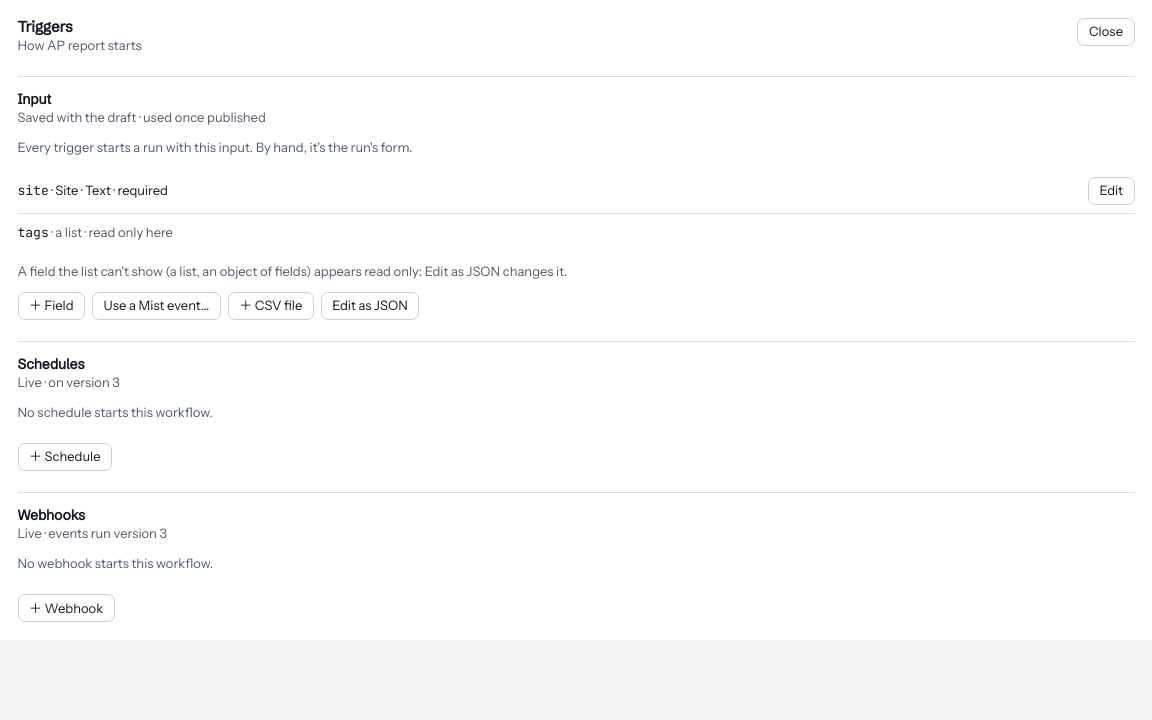
the input as form fields › holds a name until it can be one, and applies it when focus leaves it
Check: the heading "Triggers" is shown, box [18, 16, 72, 36]
Click the button with aria-label "Edit site" at [1111, 190], box [1088, 176, 1134, 204]
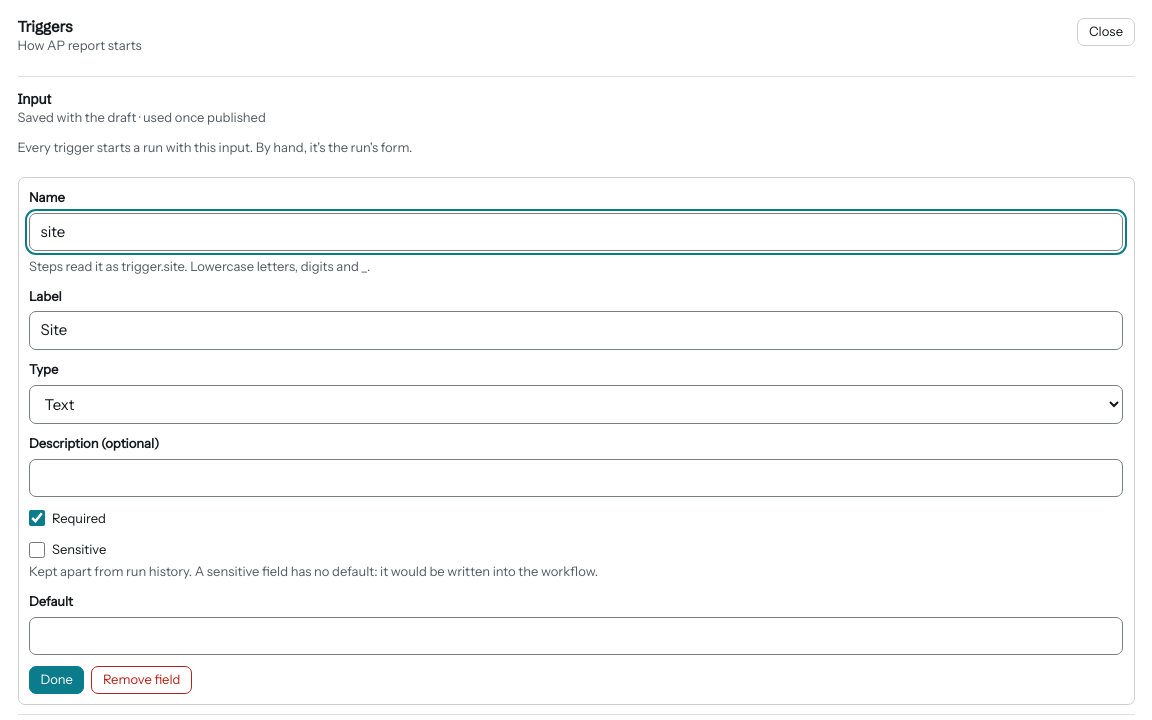
Replace the text in the field labelled "Name" with "Site" at [576, 232], box [29, 213, 1123, 251]
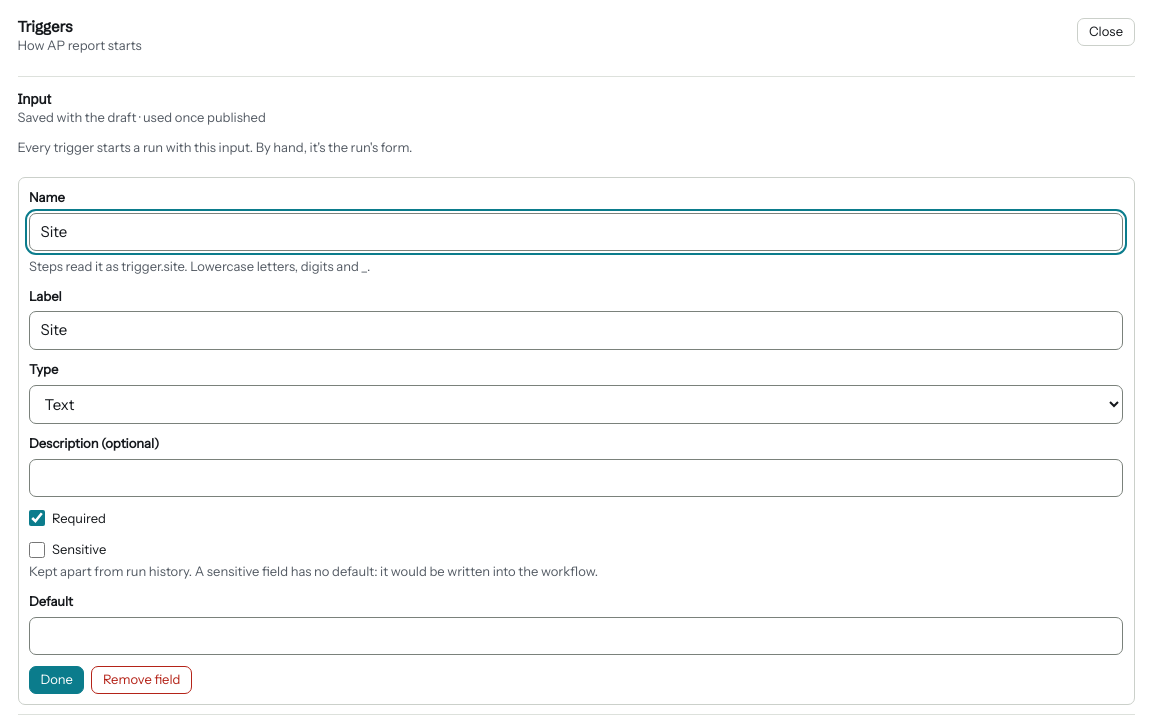
Leave the field labelled "Name", box [29, 213, 1123, 251]
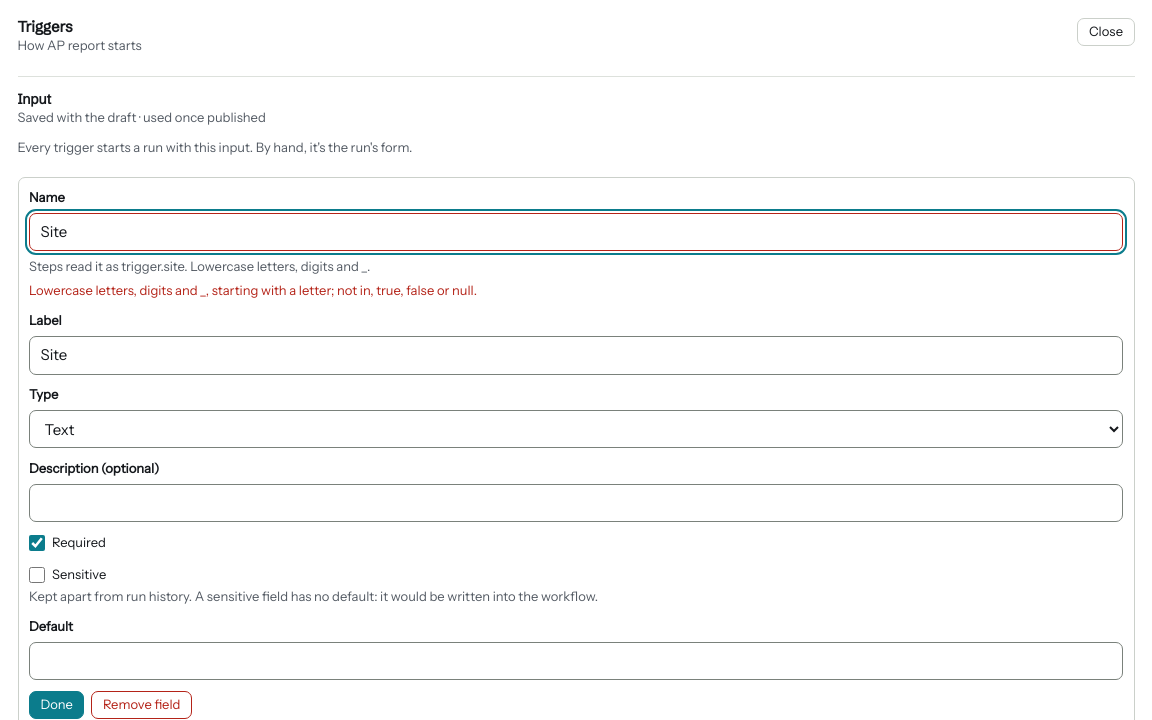
Check: the element "Input" shows "Lowercase letters, digits and _, starting with a letter; not in, true, false or null.", box [29, 282, 477, 298]
Replace the text in the field labelled "Name" with "site_name" at [576, 232], box [29, 213, 1123, 251]
Then press Enter
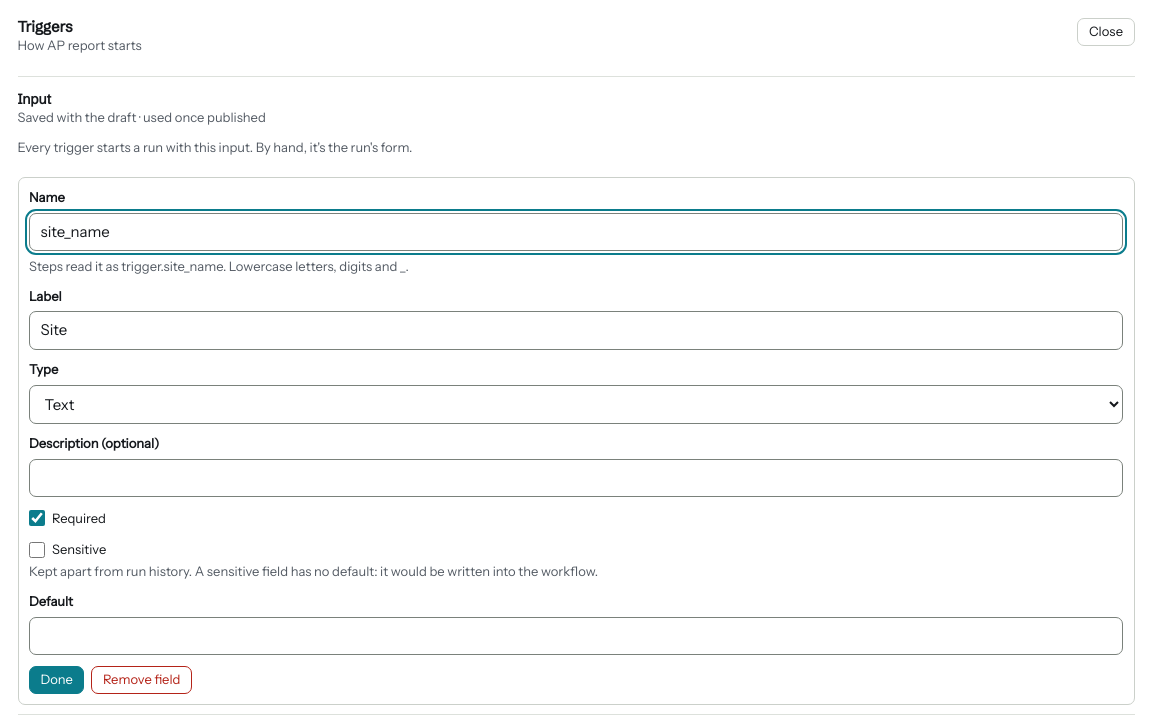
Check: the element named "The field site_name" is shown
